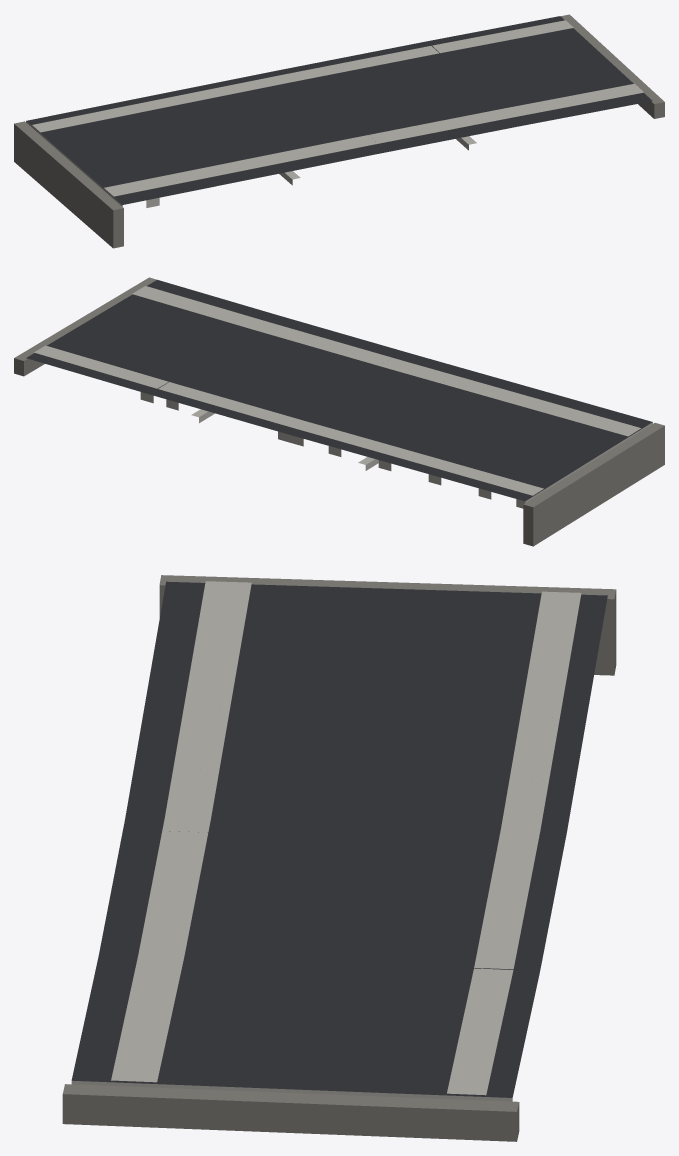
The model's file is br_w85_fox_drive_lod3.gltf.
3 renders of one model, top to bottom at view 1: azimuth 30°, elevation 25°; view 2: azimuth 150°, elevation 25°; view 3: azimuth 270°, elevation 25°, orthographic. The views are drawn at different scales.
Visible parts, largest first — view 1: br_w85_fox_drive_lod3; view 2: br_w85_fox_drive_lod3; view 3: br_w85_fox_drive_lod3.
Boxes of the visible parts, x1,y1,x2,y2 form: br_w85_fox_drive_lod3: [14, 14, 664, 248]; br_w85_fox_drive_lod3: [14, 277, 664, 546]; br_w85_fox_drive_lod3: [62, 575, 616, 1141].
Bounding box in the file's own units: 95.25 × 6.82 × 41.86.
